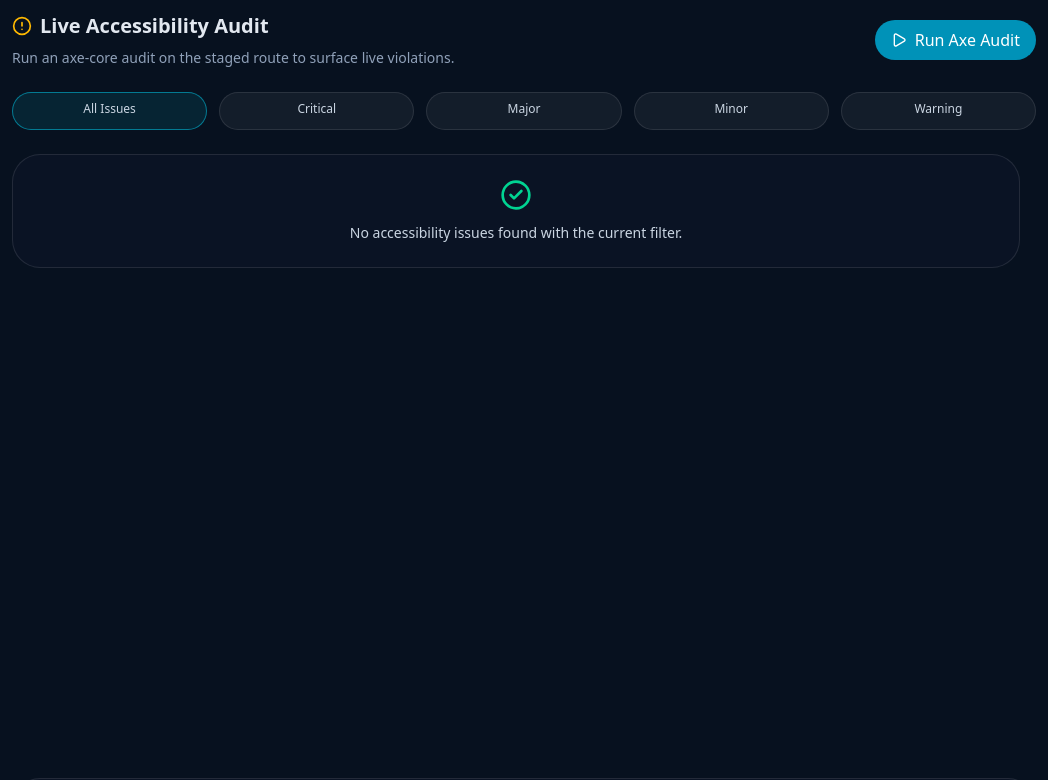
it: A11yAuditDashboard › runs axe audit when button is clicked
The width and height of the screenshot is (1048, 780).
Click the button "Run Axe Audit" at x=955, y=40, box [875,20,1036,60]
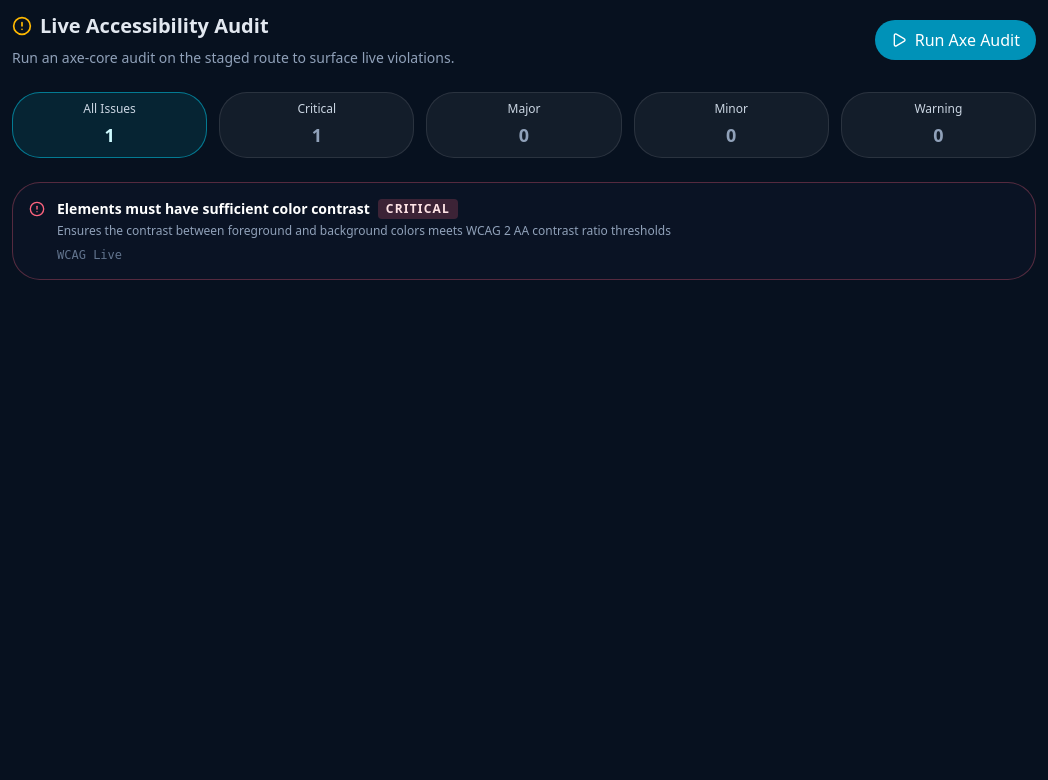
Expected: the heading "Elements must have sufficient color contrast" is shown, [57,199,370,219]
